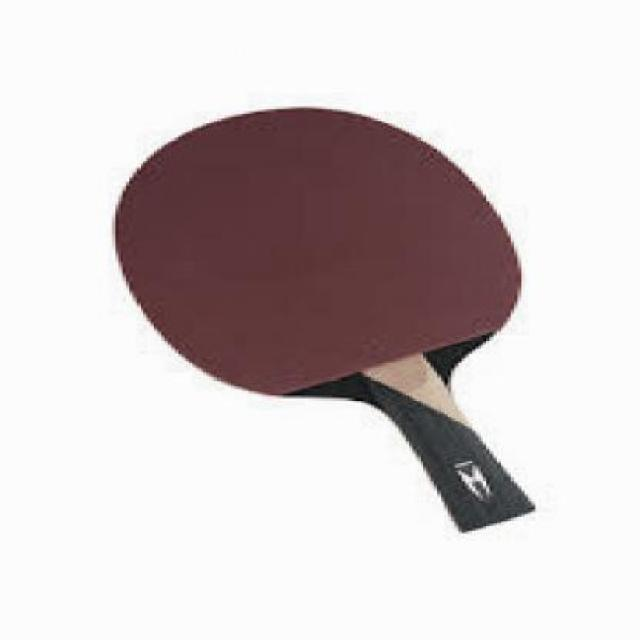table_tennis_racket: (111, 103, 535, 412)
